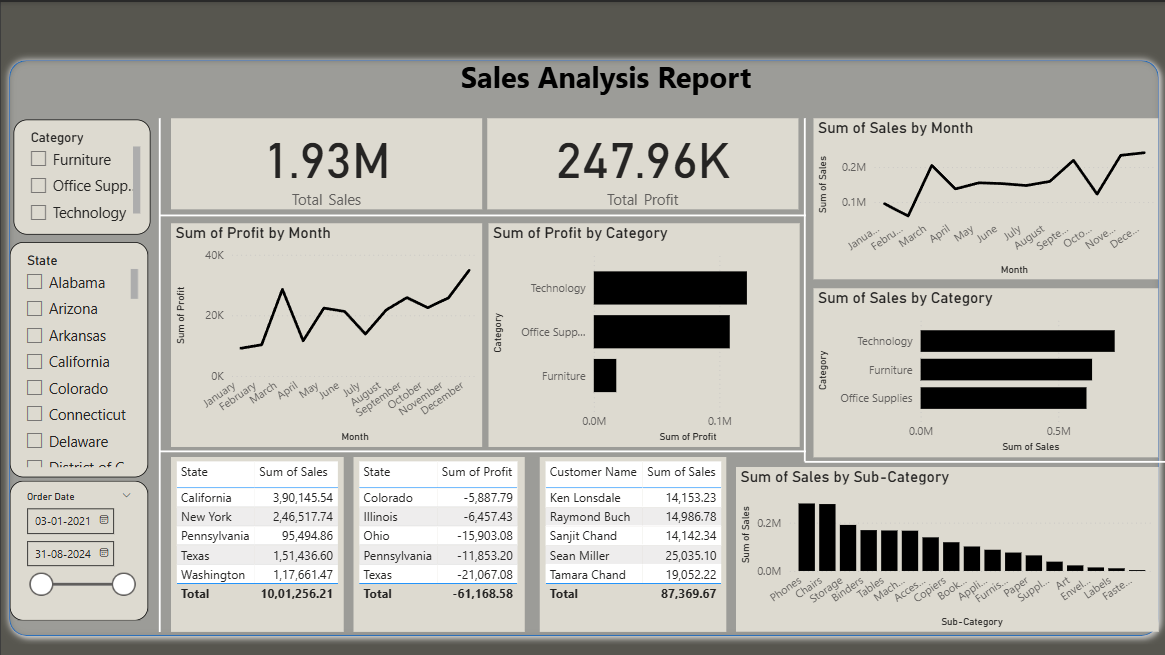

What the dashboard file says about the page in this screenshot:
{"tool":"powerbi","page":{"name":"Page 1","canvas":[1280,720],"ordinal":0},"visuals":[{"type":"shape","box":[0,55,1280,650],"z":0},{"type":"textbox","box":[496.7,54.9,334.8,56.3],"z":1000},{"type":"card","fields":{"Values":["Data.Total_Sales"]},"box":[186.6,127.6,341.7,100.2],"z":2000},{"type":"card","fields":{"Values":["Data.Total_Profit"]},"box":[533.8,127.6,341.7,100.2],"z":3000},{"type":"lineChart","fields":{"Y":["Data.Sales"],"Category":["Data.Order Date.Variation.Date Hierarchy.Month"]},"box":[891.9,127.6,378.7,177],"z":4000},{"type":"lineChart","fields":{"Y":["Data.Profit"],"Category":["Data.Order Date.Variation.Date Hierarchy.Month"]},"box":[186.6,242.9,341.7,245.6],"z":5000},{"type":"clusteredBarChart","fields":{"Category":["Data.Category"],"Y":["Data.Sales"]},"box":[891.9,314.2,378.7,185.2],"z":6000},{"type":"clusteredBarChart","fields":{"Y":["Data.Profit"],"Category":["Data.Category"]},"box":[535.2,242.9,341.7,245.6],"z":7000},{"type":"columnChart","fields":{"Category":["Data.Sub-Category"],"Y":["Data.Sales"]},"box":[806.9,510.5,463.8,181.1],"z":8000},{"type":"tableEx","fields":{"Values":["Data.State","Data.Sales"]},"box":[186.6,499.5,189.4,192.1],"z":9000},{"type":"tableEx","fields":{"Values":["Data.Customer Name","Data.Sales"]},"box":[591.4,499.5,204.5,192.1],"z":10000},{"type":"tableEx","fields":{"Values":["Data.State","Data.Profit"]},"box":[387,499.5,188,192.1],"z":11000},{"type":"slicer","fields":{"Values":["Data.Category"]},"box":[13.3,128.3,150,126.7],"z":12000},{"type":"slicer","fields":{"Values":["Data.State"]},"box":[10,263.3,151.7,258.3],"z":13000},{"type":"slicer","fields":{"Values":["Data.Order Date"]},"box":[10,525,151.7,153.3],"z":14000},{"type":"shape","box":[146.8,127.6,54.9,564],"z":15000},{"type":"shape","box":[174.3,217.1,709.3,35],"z":16000},{"type":"shape","box":[855.5,128,55,377],"z":17000},{"type":"shape","box":[882.9,487.1,397.1,35.4],"z":18000},{"type":"shape","box":[174.3,476.2,709.4,34.3],"z":19000}]}

Visuals, with their boxes in screenshot pixels (x1, y1, x2, y2), scaled from the page's 1280x720 canvas onto the 1165x655 screenshot:
shape: x1=0 y1=50 x2=1164 y2=641
textbox: x1=452 y1=50 x2=757 y2=101
card - Data.Total_Sales: x1=170 y1=116 x2=481 y2=207
card - Data.Total_Profit: x1=486 y1=116 x2=797 y2=207
lineChart - Data.Sales x Data.Order Date.Variation.Date Hierarchy.Month: x1=812 y1=116 x2=1156 y2=277
lineChart - Data.Profit x Data.Order Date.Variation.Date Hierarchy.Month: x1=170 y1=221 x2=481 y2=444
clusteredBarChart - Data.Category x Data.Sales: x1=812 y1=286 x2=1156 y2=454
clusteredBarChart - Data.Profit x Data.Category: x1=487 y1=221 x2=798 y2=444
columnChart - Data.Sub-Category x Data.Sales: x1=734 y1=464 x2=1157 y2=629
tableEx - Data.State x Data.Sales: x1=170 y1=454 x2=342 y2=629
tableEx - Data.Customer Name x Data.Sales: x1=538 y1=454 x2=724 y2=629
tableEx - Data.State x Data.Profit: x1=352 y1=454 x2=523 y2=629
slicer - Data.Category: x1=12 y1=117 x2=149 y2=232
slicer - Data.State: x1=9 y1=240 x2=147 y2=475
slicer - Data.Order Date: x1=9 y1=478 x2=147 y2=617
shape: x1=134 y1=116 x2=184 y2=629
shape: x1=159 y1=198 x2=804 y2=229
shape: x1=779 y1=116 x2=829 y2=459
shape: x1=804 y1=443 x2=1164 y2=475
shape: x1=159 y1=433 x2=804 y2=464
